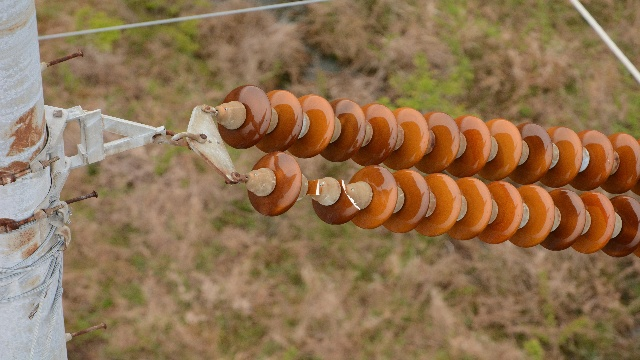broken_local: (333, 174, 362, 213), (304, 173, 326, 196)
insulator_unspecified: (220, 85, 639, 256)
